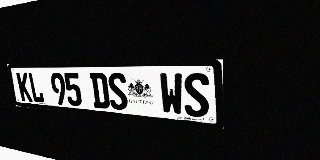5: (63, 72, 83, 107)
9: (49, 72, 68, 105)
D: (89, 73, 110, 109)
K: (16, 72, 33, 102)
L: (27, 72, 45, 103)
S: (183, 73, 210, 118), (107, 73, 129, 111)
W: (159, 73, 184, 116)
